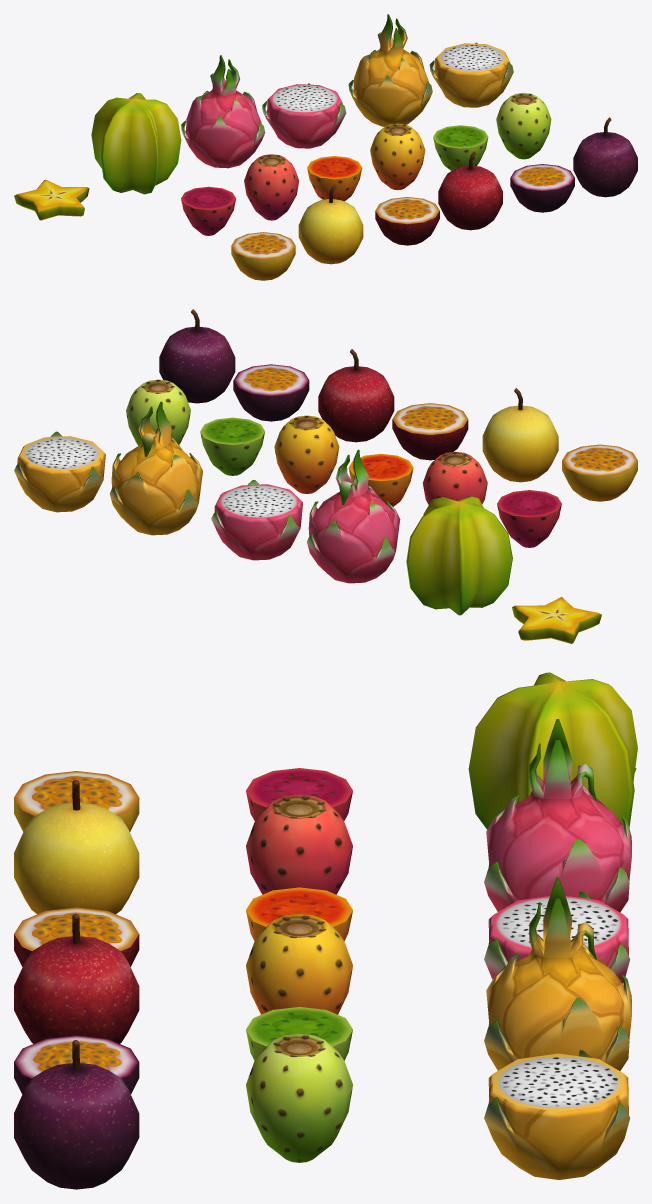
File: prickly pear.fbx
3 views of the same model, one above another, from view 1: azimuth 30°, elevation 25°; view 2: azimuth 150°, elevation 25°; view 3: azimuth 270°, elevation 25° (orthographic). The views are drawn at different scales.
Parts seen in each view (by area): view 1: Starfruit, Dragonfruit, Dragonfruit_Yellow, Dragonfruit_Yellow_Half, Dragonfruit_Half, PassionFruit_Yellow, PassionFruit_Purple, PassionFruit_Red, PricklyPear_Orange, PricklyPear_Green, PricklyPear_Pink, PassionFruit_Purple_Half (+6 smaller); view 2: Starfruit, Dragonfruit, Dragonfruit_Yellow, Dragonfruit_Yellow_Half, Dragonfruit_Half, PassionFruit_Yellow, PassionFruit_Red, PassionFruit_Purple, PricklyPear_Orange, PassionFruit_Purple_Half, PassionFruit_Yellow_Half, PassionFruit_Red_Half (+6 smaller); view 3: Dragonfruit_Yellow, Dragonfruit, Starfruit, Dragonfruit_Yellow_Half, PassionFruit_Purple, PassionFruit_Yellow, PassionFruit_Red, PricklyPear_Green, PricklyPear_Orange, PricklyPear_Pink, Dragonfruit_Half, PassionFruit_Yellow_Half (+5 smaller).
Part boxes in pixels (x1,y1,x2,y2): Starfruit: (91, 93, 181, 194); Dragonfruit: (181, 55, 265, 168); Dragonfruit_Yellow: (348, 14, 432, 126); Dragonfruit_Yellow_Half: (429, 42, 513, 107); Dragonfruit_Half: (262, 83, 346, 148); PassionFruit_Yellow: (298, 184, 363, 264); PassionFruit_Purple: (573, 117, 637, 197); PassionFruit_Red: (438, 151, 502, 230); PricklyPear_Orange: (370, 123, 425, 190); PricklyPear_Green: (496, 93, 551, 159); PricklyPear_Pink: (244, 154, 299, 220); PassionFruit_Purple_Half: (510, 164, 574, 212); Starfruit: (406, 496, 512, 615); Dragonfruit: (307, 449, 400, 583); Dragonfruit_Yellow: (109, 401, 202, 535); Dragonfruit_Yellow_Half: (14, 431, 105, 512); Dragonfruit_Half: (211, 480, 302, 560); PassionFruit_Yellow: (482, 388, 558, 482); PassionFruit_Red: (318, 349, 394, 442); PassionFruit_Purple: (159, 309, 235, 403); PricklyPear_Orange: (274, 415, 339, 493); PassionFruit_Purple_Half: (233, 364, 309, 421); PassionFruit_Yellow_Half: (562, 444, 637, 501); PassionFruit_Red_Half: (392, 403, 468, 460); Dragonfruit_Yellow: (484, 877, 631, 1070); Dragonfruit: (484, 719, 631, 912); Starfruit: (468, 672, 637, 829); Dragonfruit_Yellow_Half: (484, 1050, 630, 1179); PassionFruit_Purple: (14, 1040, 139, 1189); PassionFruit_Yellow: (14, 779, 139, 914); PassionFruit_Red: (14, 913, 139, 1043); PricklyPear_Green: (246, 1033, 352, 1162); PricklyPear_Orange: (246, 914, 352, 1014); PricklyPear_Pink: (246, 794, 352, 894); Dragonfruit_Half: (484, 891, 630, 983); PassionFruit_Yellow_Half: (14, 771, 139, 831).
Size of the model in its own units: 269 by 59.41 by 155.
5 materials, 5 textured.
